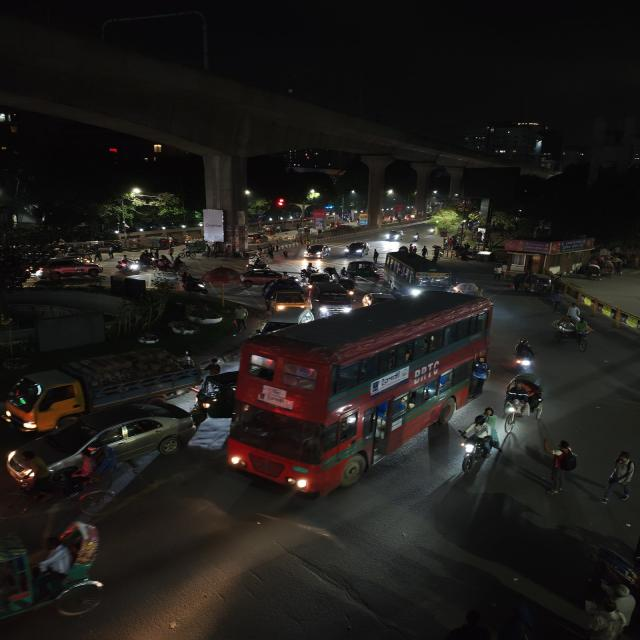bicycle: (244, 248, 270, 260), (176, 246, 196, 260)
bus: (224, 288, 496, 497), (381, 251, 451, 299)
car: (1, 393, 186, 501), (28, 253, 106, 280), (309, 282, 353, 316), (233, 266, 304, 284), (304, 242, 332, 260), (342, 241, 369, 256), (384, 227, 404, 241)
cng: (2, 344, 194, 421), (193, 374, 231, 426), (346, 260, 380, 280), (528, 272, 553, 296)
motorcycle: (452, 409, 504, 474), (513, 336, 536, 372), (182, 274, 204, 296), (116, 254, 139, 275), (412, 232, 421, 242)
pedestrian: (546, 437, 579, 499), (604, 447, 636, 506), (202, 244, 213, 260), (372, 248, 381, 264), (105, 246, 115, 259), (282, 246, 292, 258), (168, 247, 176, 259)
pickup_van: (263, 280, 310, 314)
rickshaw: (0, 510, 118, 640), (500, 372, 542, 428), (549, 315, 597, 350), (147, 260, 188, 280)
